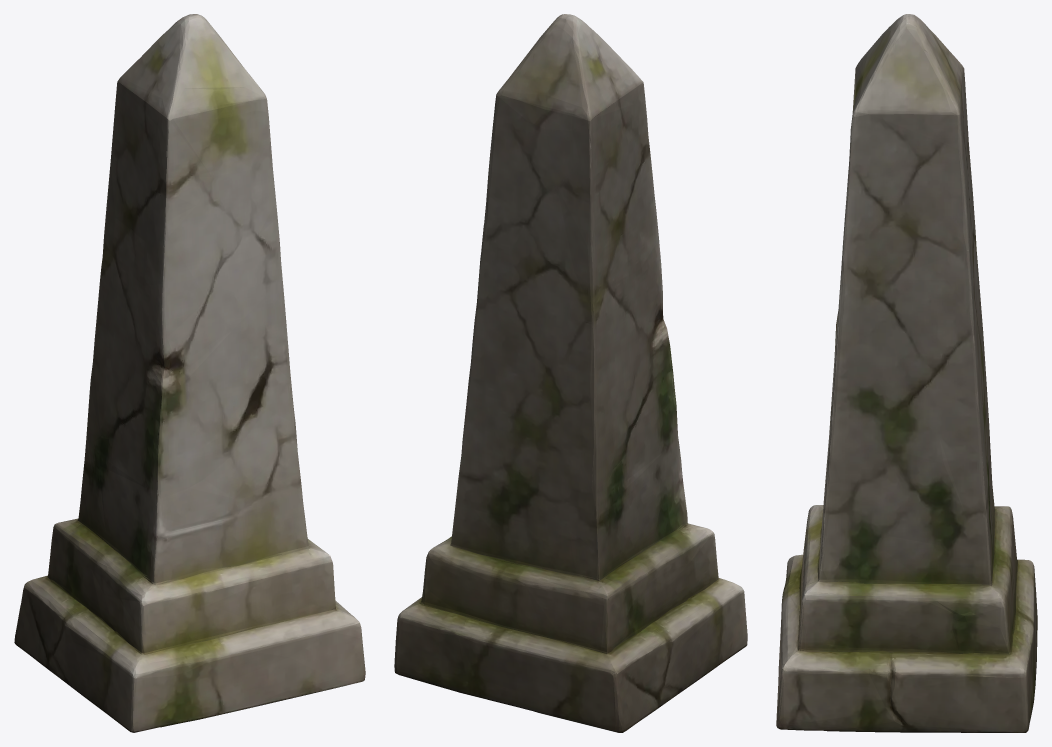
Rendered from tombstone_obelisk.glb.
The picture shows the model from 3 angles, left to right: view 1: azimuth 30°, elevation 25°; view 2: azimuth 150°, elevation 25°; view 3: azimuth 270°, elevation 25°; orthographic projection. The views are drawn at different scales.
Parts seen in each view (by area): view 1: geometry_0; view 2: geometry_0; view 3: geometry_0.
Part boxes in pixels (left/top/right/bottom): geometry_0: left=14, top=14, right=365, bottom=732; geometry_0: left=394, top=14, right=747, bottom=732; geometry_0: left=776, top=14, right=1037, bottom=732.
Size of the model in its own units: 0.3864 by 1 by 0.3598.
Materials: 1 (1 with a texture image).
